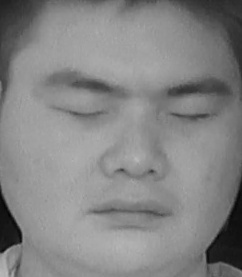blink: (54, 93, 108, 129), (166, 99, 216, 133)
mouth: (92, 187, 171, 232)
